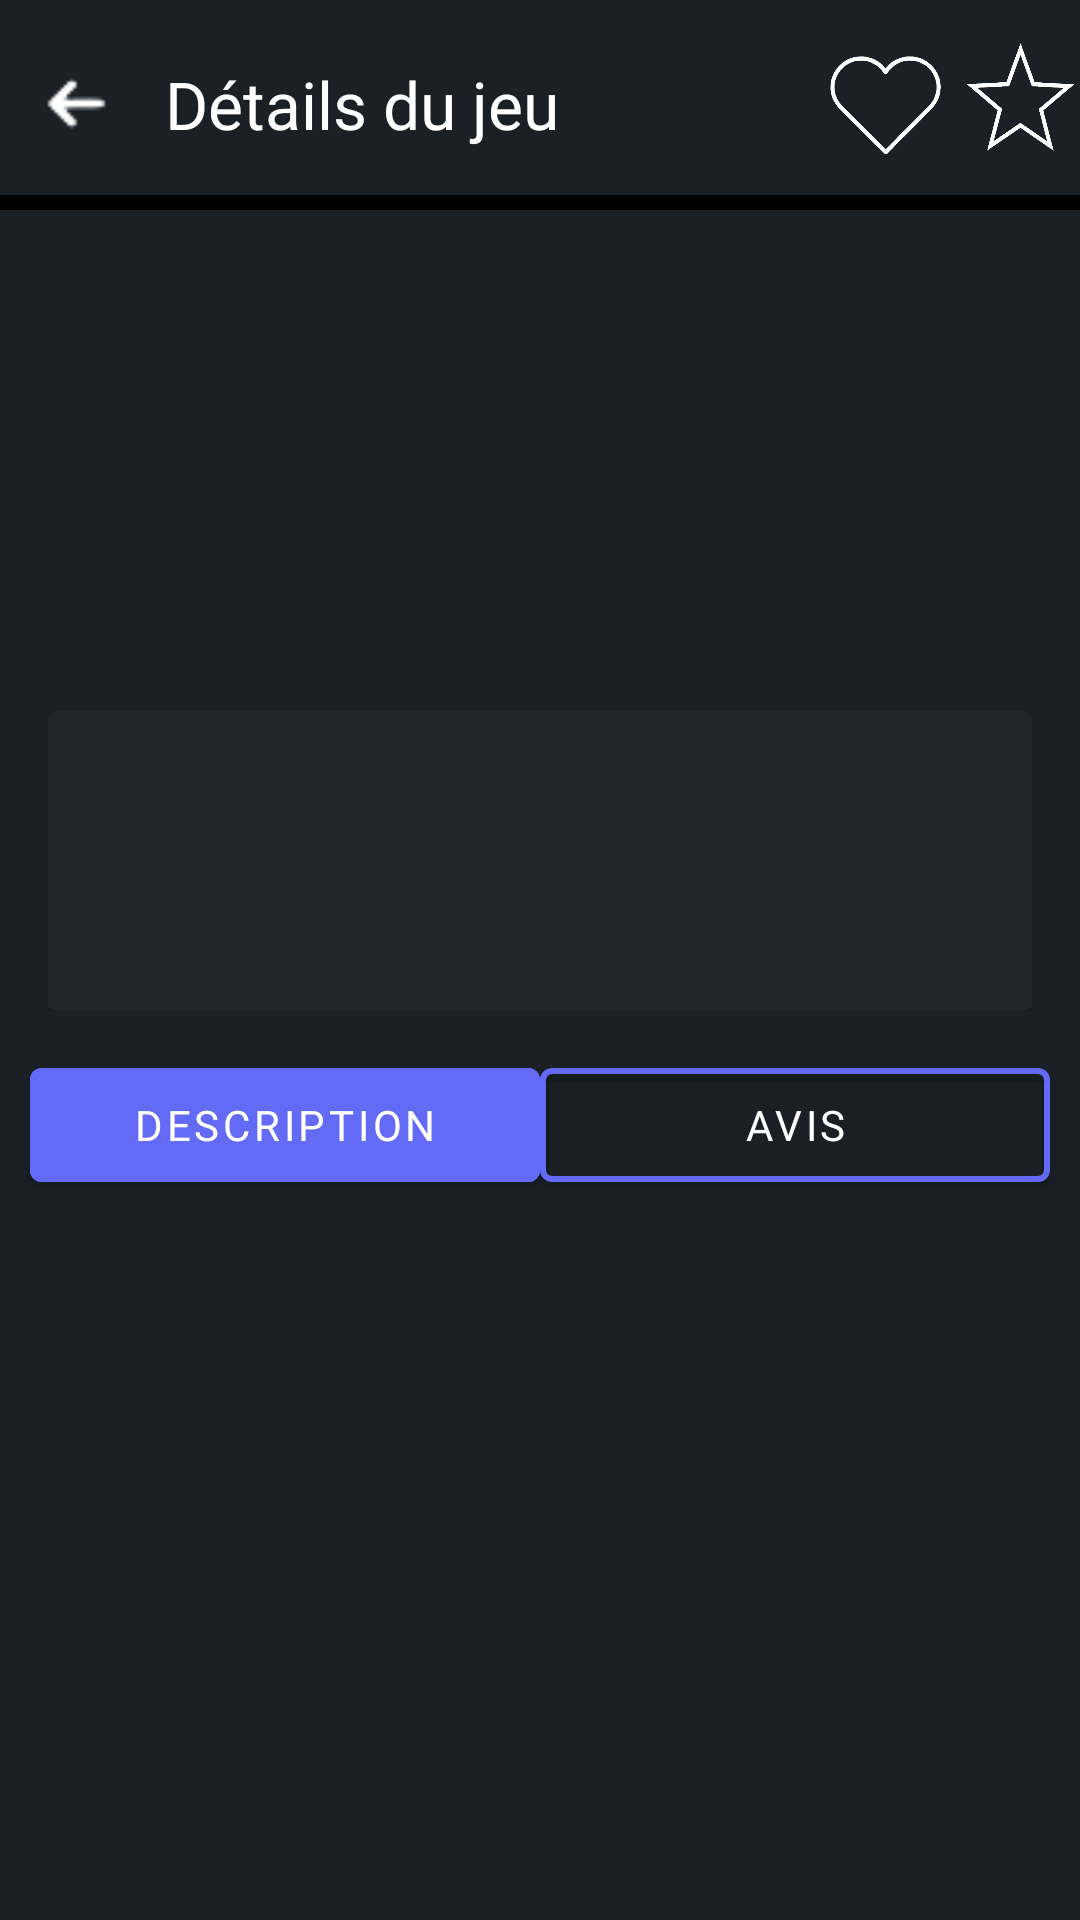

Point at icon controls on the screen. Image size 1080px x 1920px, points as point (x, y).
back: point (76, 103)
heart empty: point (885, 105)
star empty: point (1020, 97)
